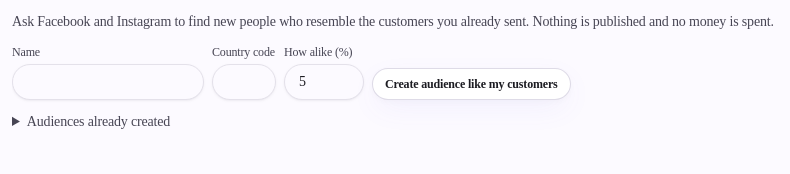
Test: MetaLookalikeAudienceControls › shows an inline error and does not refresh when the request fails
The width and height of the screenshot is (790, 174).
Type "Warm leads" into the field labelled "Name" at (108, 82), box [12,64,204,100]
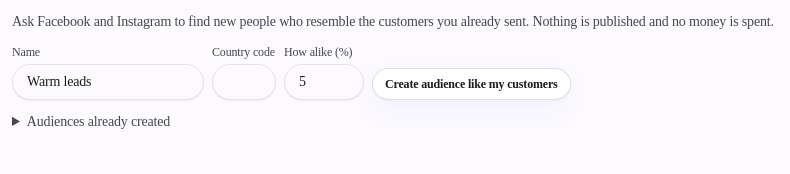
Type "US" into the field labelled "Country code" at (244, 82), box [212,64,276,100]
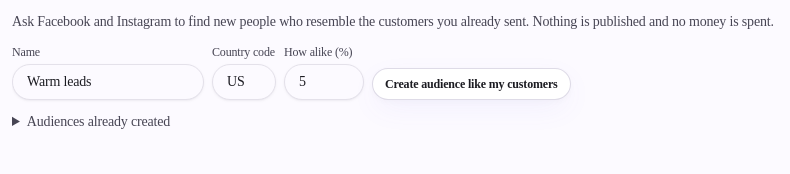
Click the button "Create audience like my customers" at (471, 84), box [372,68,571,100]
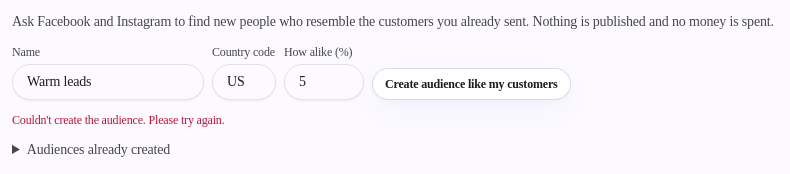
expect the message reads "Couldn't create the audience. Please try again.": met, box [12,113,224,127]
